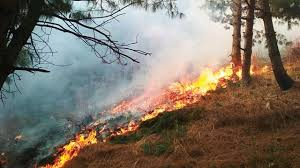fire: (84, 91, 188, 140), (36, 131, 118, 168), (165, 74, 225, 97)
smoke: (55, 29, 190, 77)
